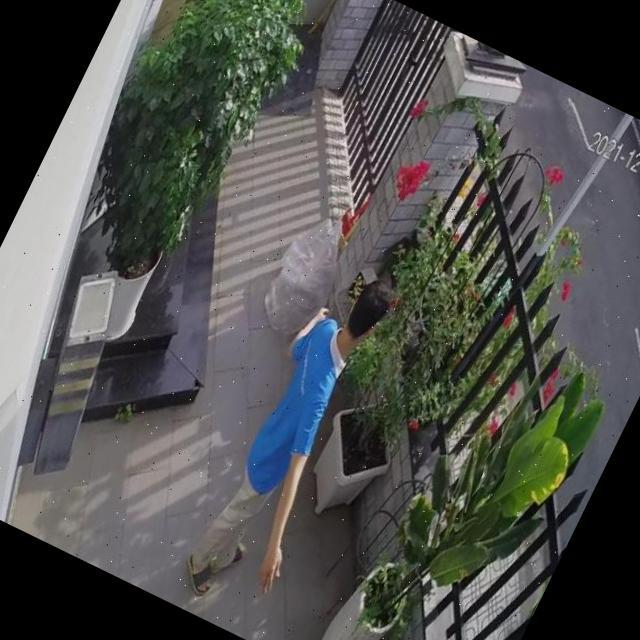person: (170, 252, 418, 626)
